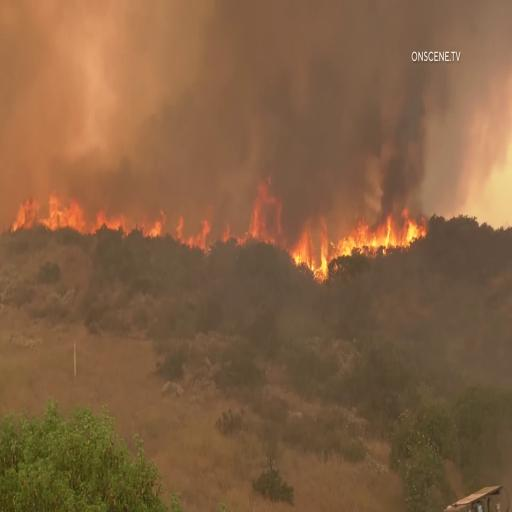fire: (295, 208, 329, 284), (46, 189, 85, 239), (252, 190, 280, 248), (338, 216, 341, 219)
